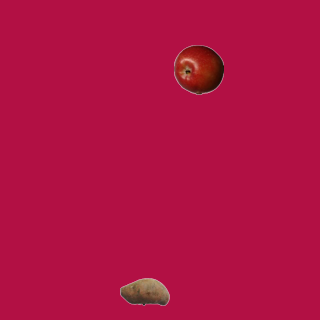Apple Braeburn: (173, 44, 223, 94)
Potato Sweet: (119, 266, 169, 316)
